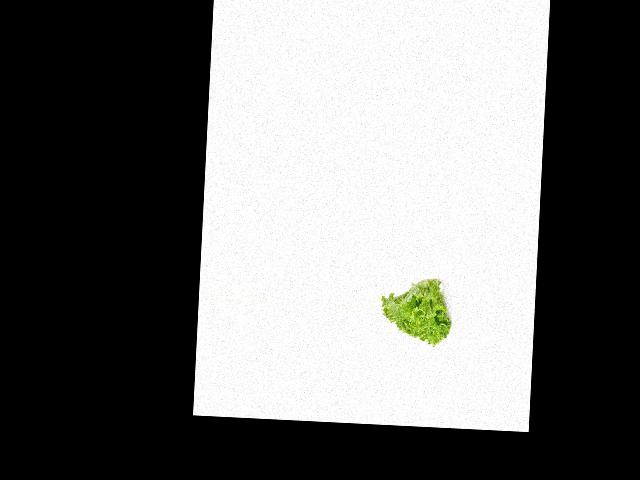lettuce: (376, 271, 453, 351)
